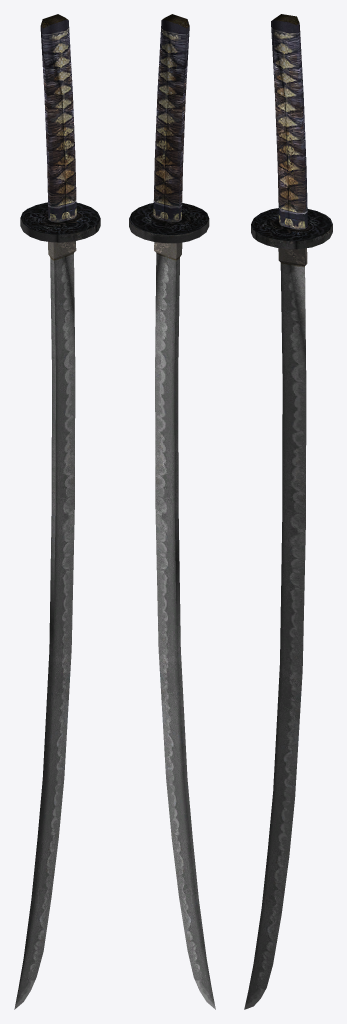
The model's file is Katana.fbx.
3 renders of one model, left to right at view 1: azimuth 30°, elevation 25°; view 2: azimuth 150°, elevation 25°; view 3: azimuth 330°, elevation 25°, orthographic. The views are drawn at different scales.
Visible parts, largest first — view 1: mesh0, mesh1; view 2: mesh0, mesh1; view 3: mesh0, mesh1.
Boxes of the visible parts, <box> form: mesh0: <box>14,202,100,1009</box>; mesh1: <box>40,14,76,222</box>; mesh0: <box>129,203,215,1009</box>; mesh1: <box>153,14,189,222</box>; mesh0: <box>244,208,332,1009</box>; mesh1: <box>271,14,307,229</box>.
Size of the model in its own units: 13.34 by 156 by 11.1.
